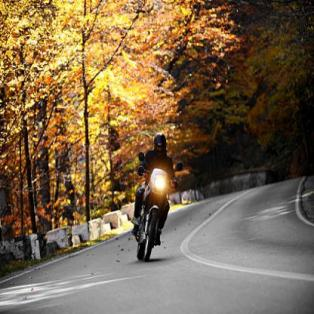Motocicleta: (128, 158, 180, 265)
